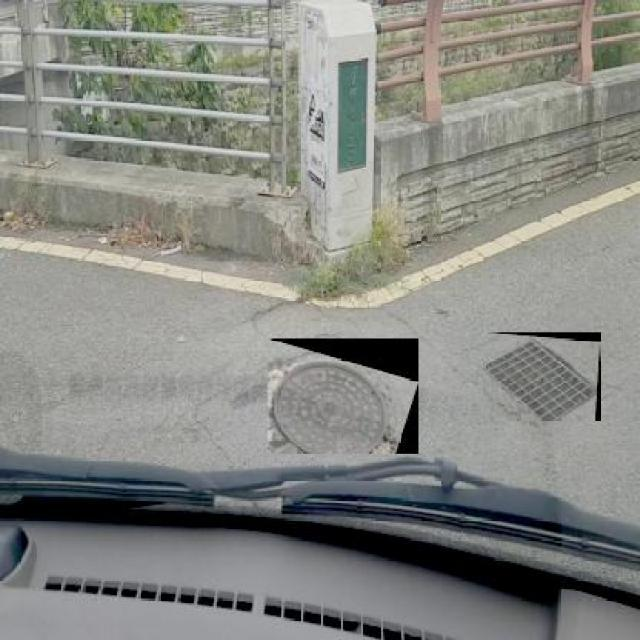Manhole: (267, 338, 418, 454), (485, 332, 601, 420)
